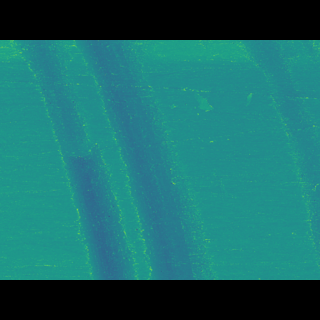Loch: (74, 68, 219, 250), (11, 69, 142, 250), (244, 68, 319, 230)
